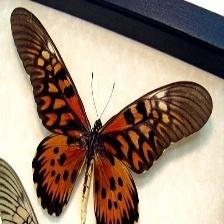butterfly: (11, 8, 213, 224)
